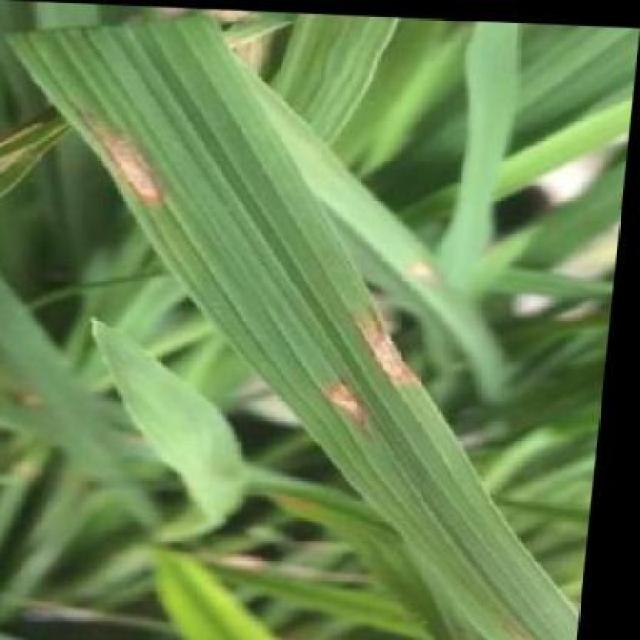Bacterial_Leaf_Blight: (54, 82, 212, 228), (344, 272, 458, 397), (293, 366, 402, 451), (486, 623, 576, 640)
